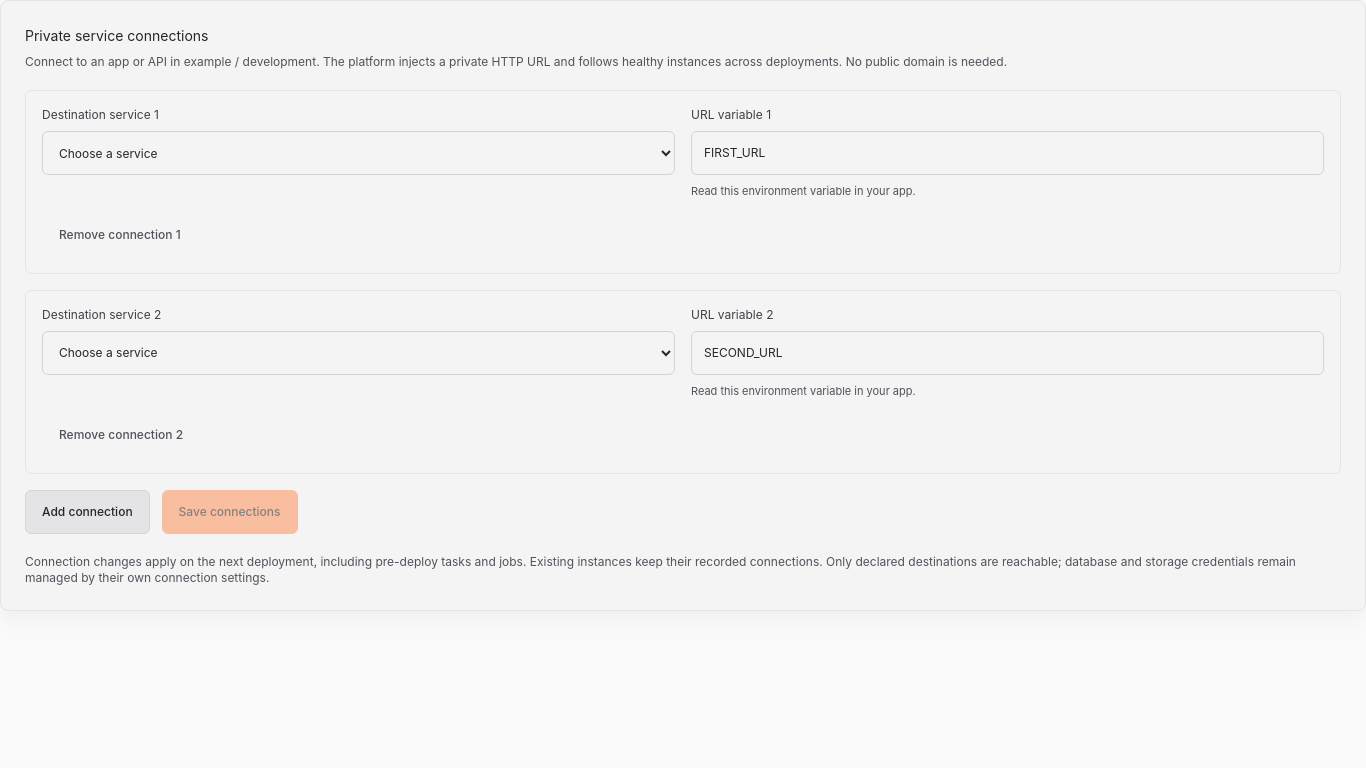
removing a connection preserves the remaining row input identity and draft
Replace the text in the field labelled "URL variable 2" with "EDITED_URL" at (1008, 353), box [691,331,1324,375]
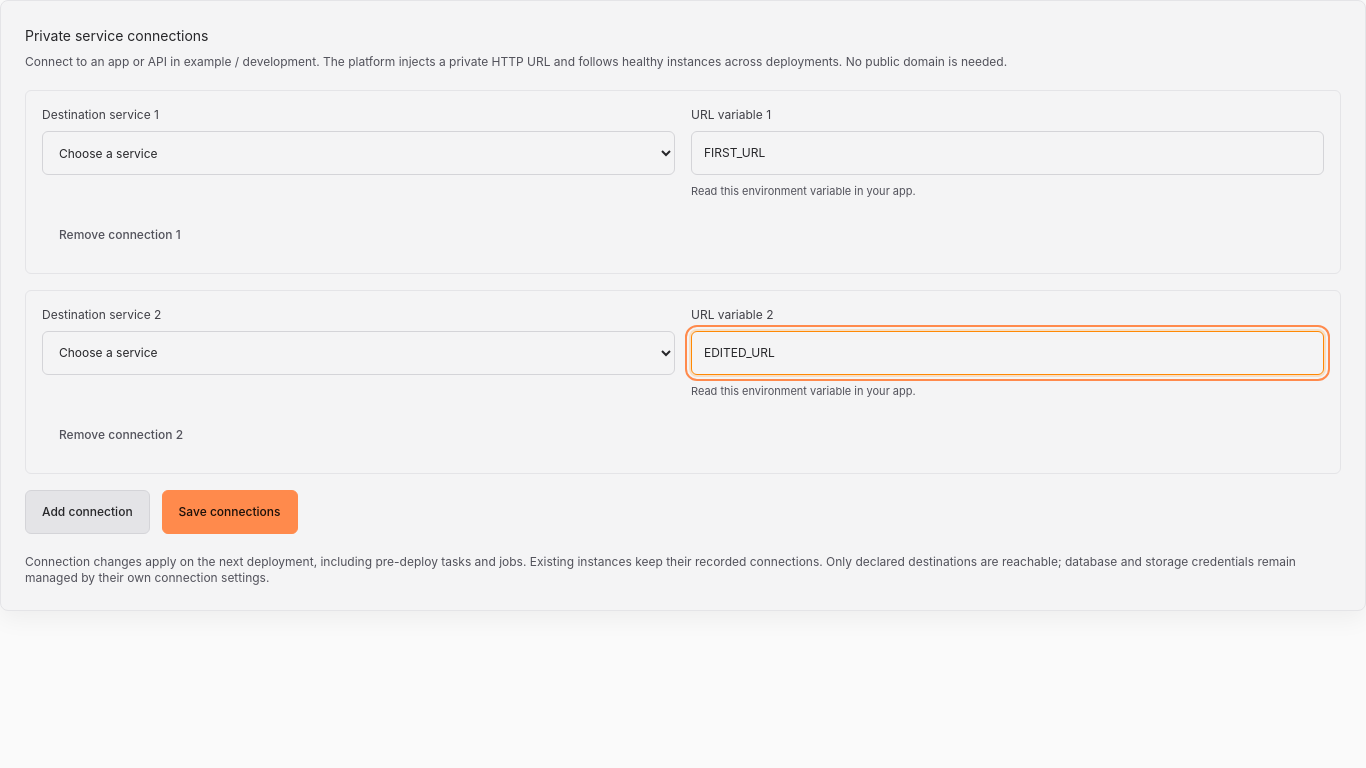
Click the button "Remove connection 1".
click(120, 235)  # box [42,213,198,257]
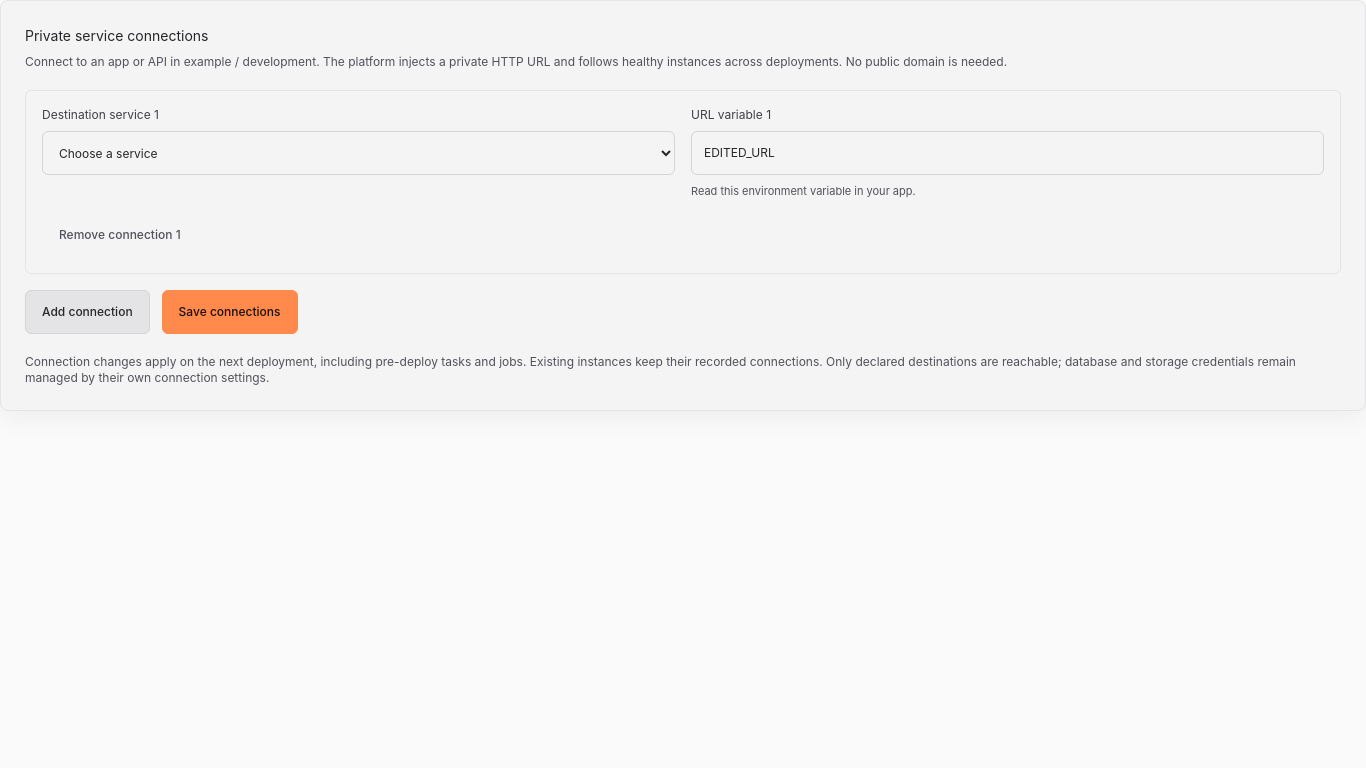
Expected: the label "URL variable 2" is gone
